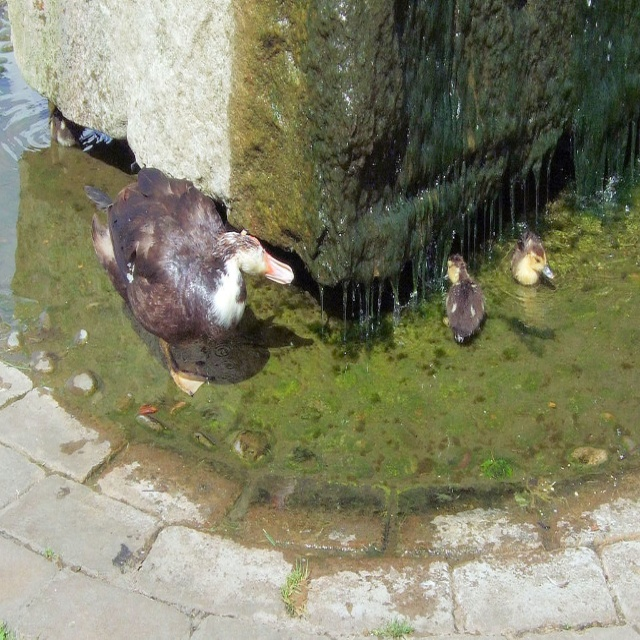Duck: (105, 163, 282, 396), (443, 247, 494, 342), (512, 229, 556, 296)
